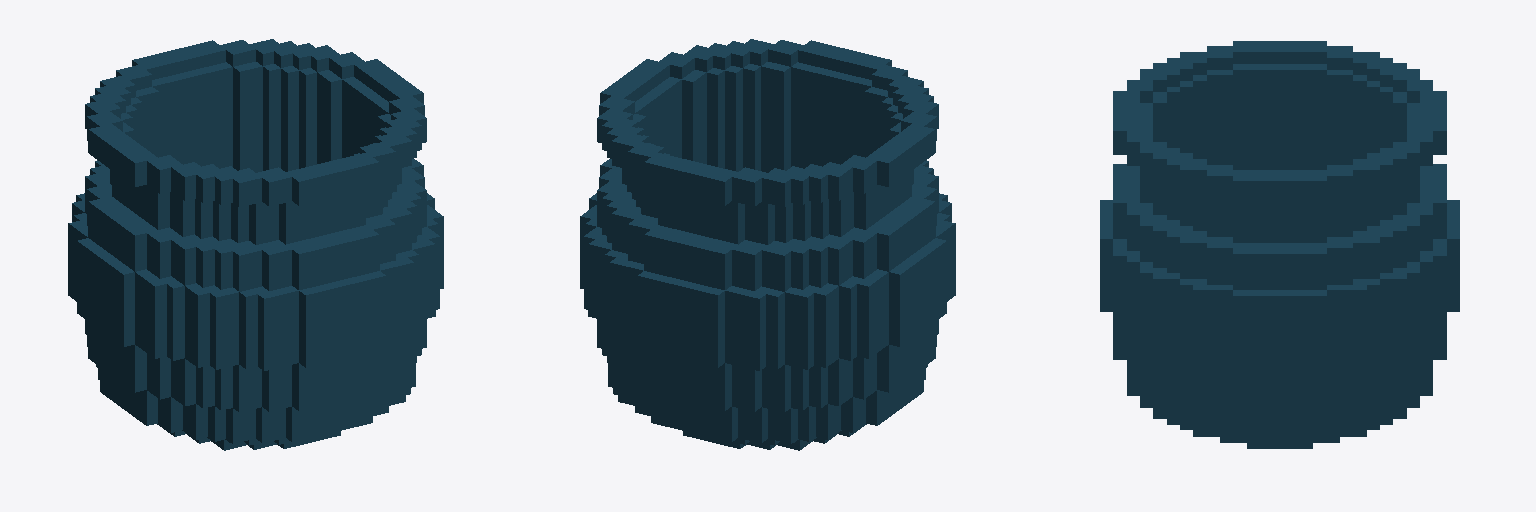
The picture shows the model from 3 angles: view 1: azimuth 30°, elevation 25°; view 2: azimuth 150°, elevation 25°; view 3: azimuth 270°, elevation 25°; orthographic projection.
Visible parts, largest first — view 1: object 1; view 2: object 1; view 3: object 1.
Boxes of the visible parts, box(x1,y1,x2,y2) form: object 1: box(68, 39, 443, 450); object 1: box(580, 39, 955, 450); object 1: box(1100, 41, 1459, 448).
Size of the model in its own units: 2.7 by 2.4 by 2.7.
Materials: 1 (1 with a texture image).